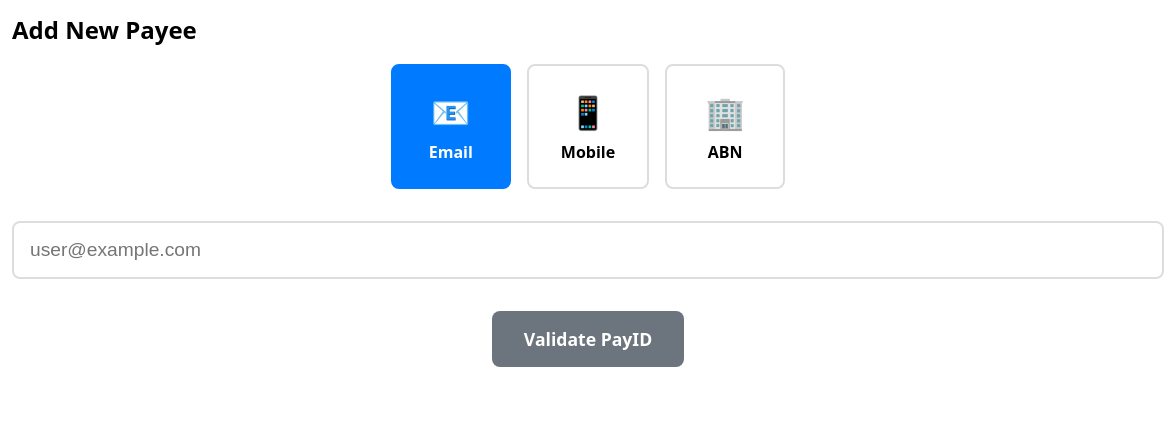
Test: AddNewPayee › PayID validation › should show error for special test case disabled@example.com
Type "disabled@example.com" into the field with placeholder "user@example.com". click: (588, 250)
box: [12, 221, 1164, 279]
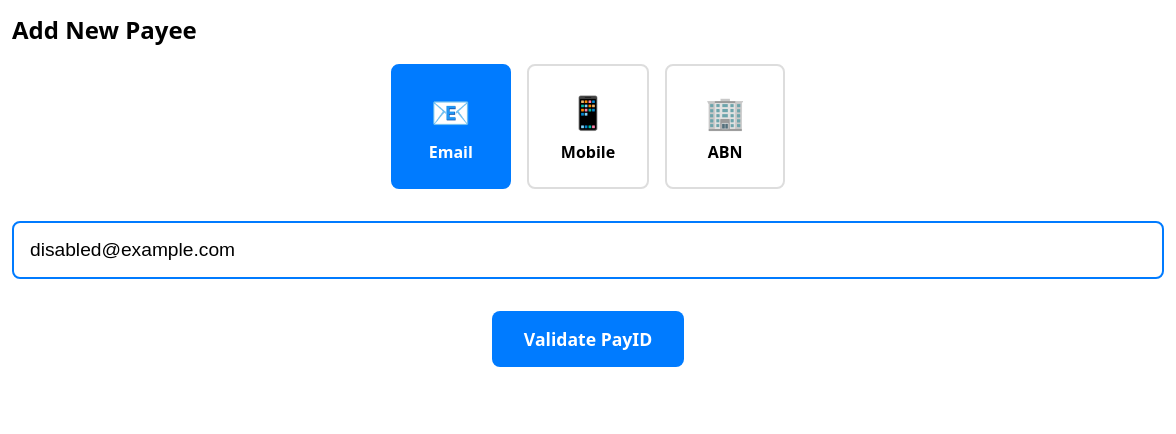
Click the button "Validate PayID". click: (588, 339)
box: [492, 311, 684, 367]
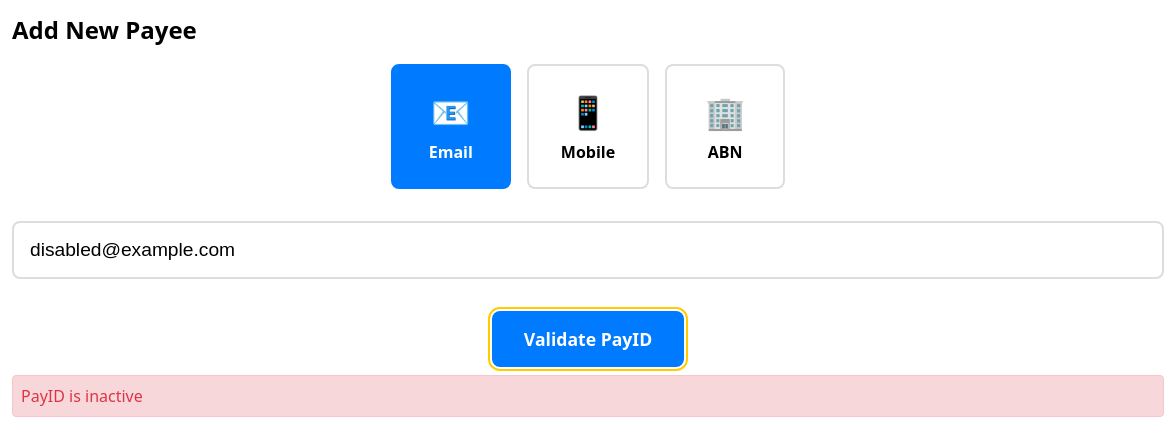
Result: the text "PayID is inactive" is shown at [12, 375, 1164, 417]
